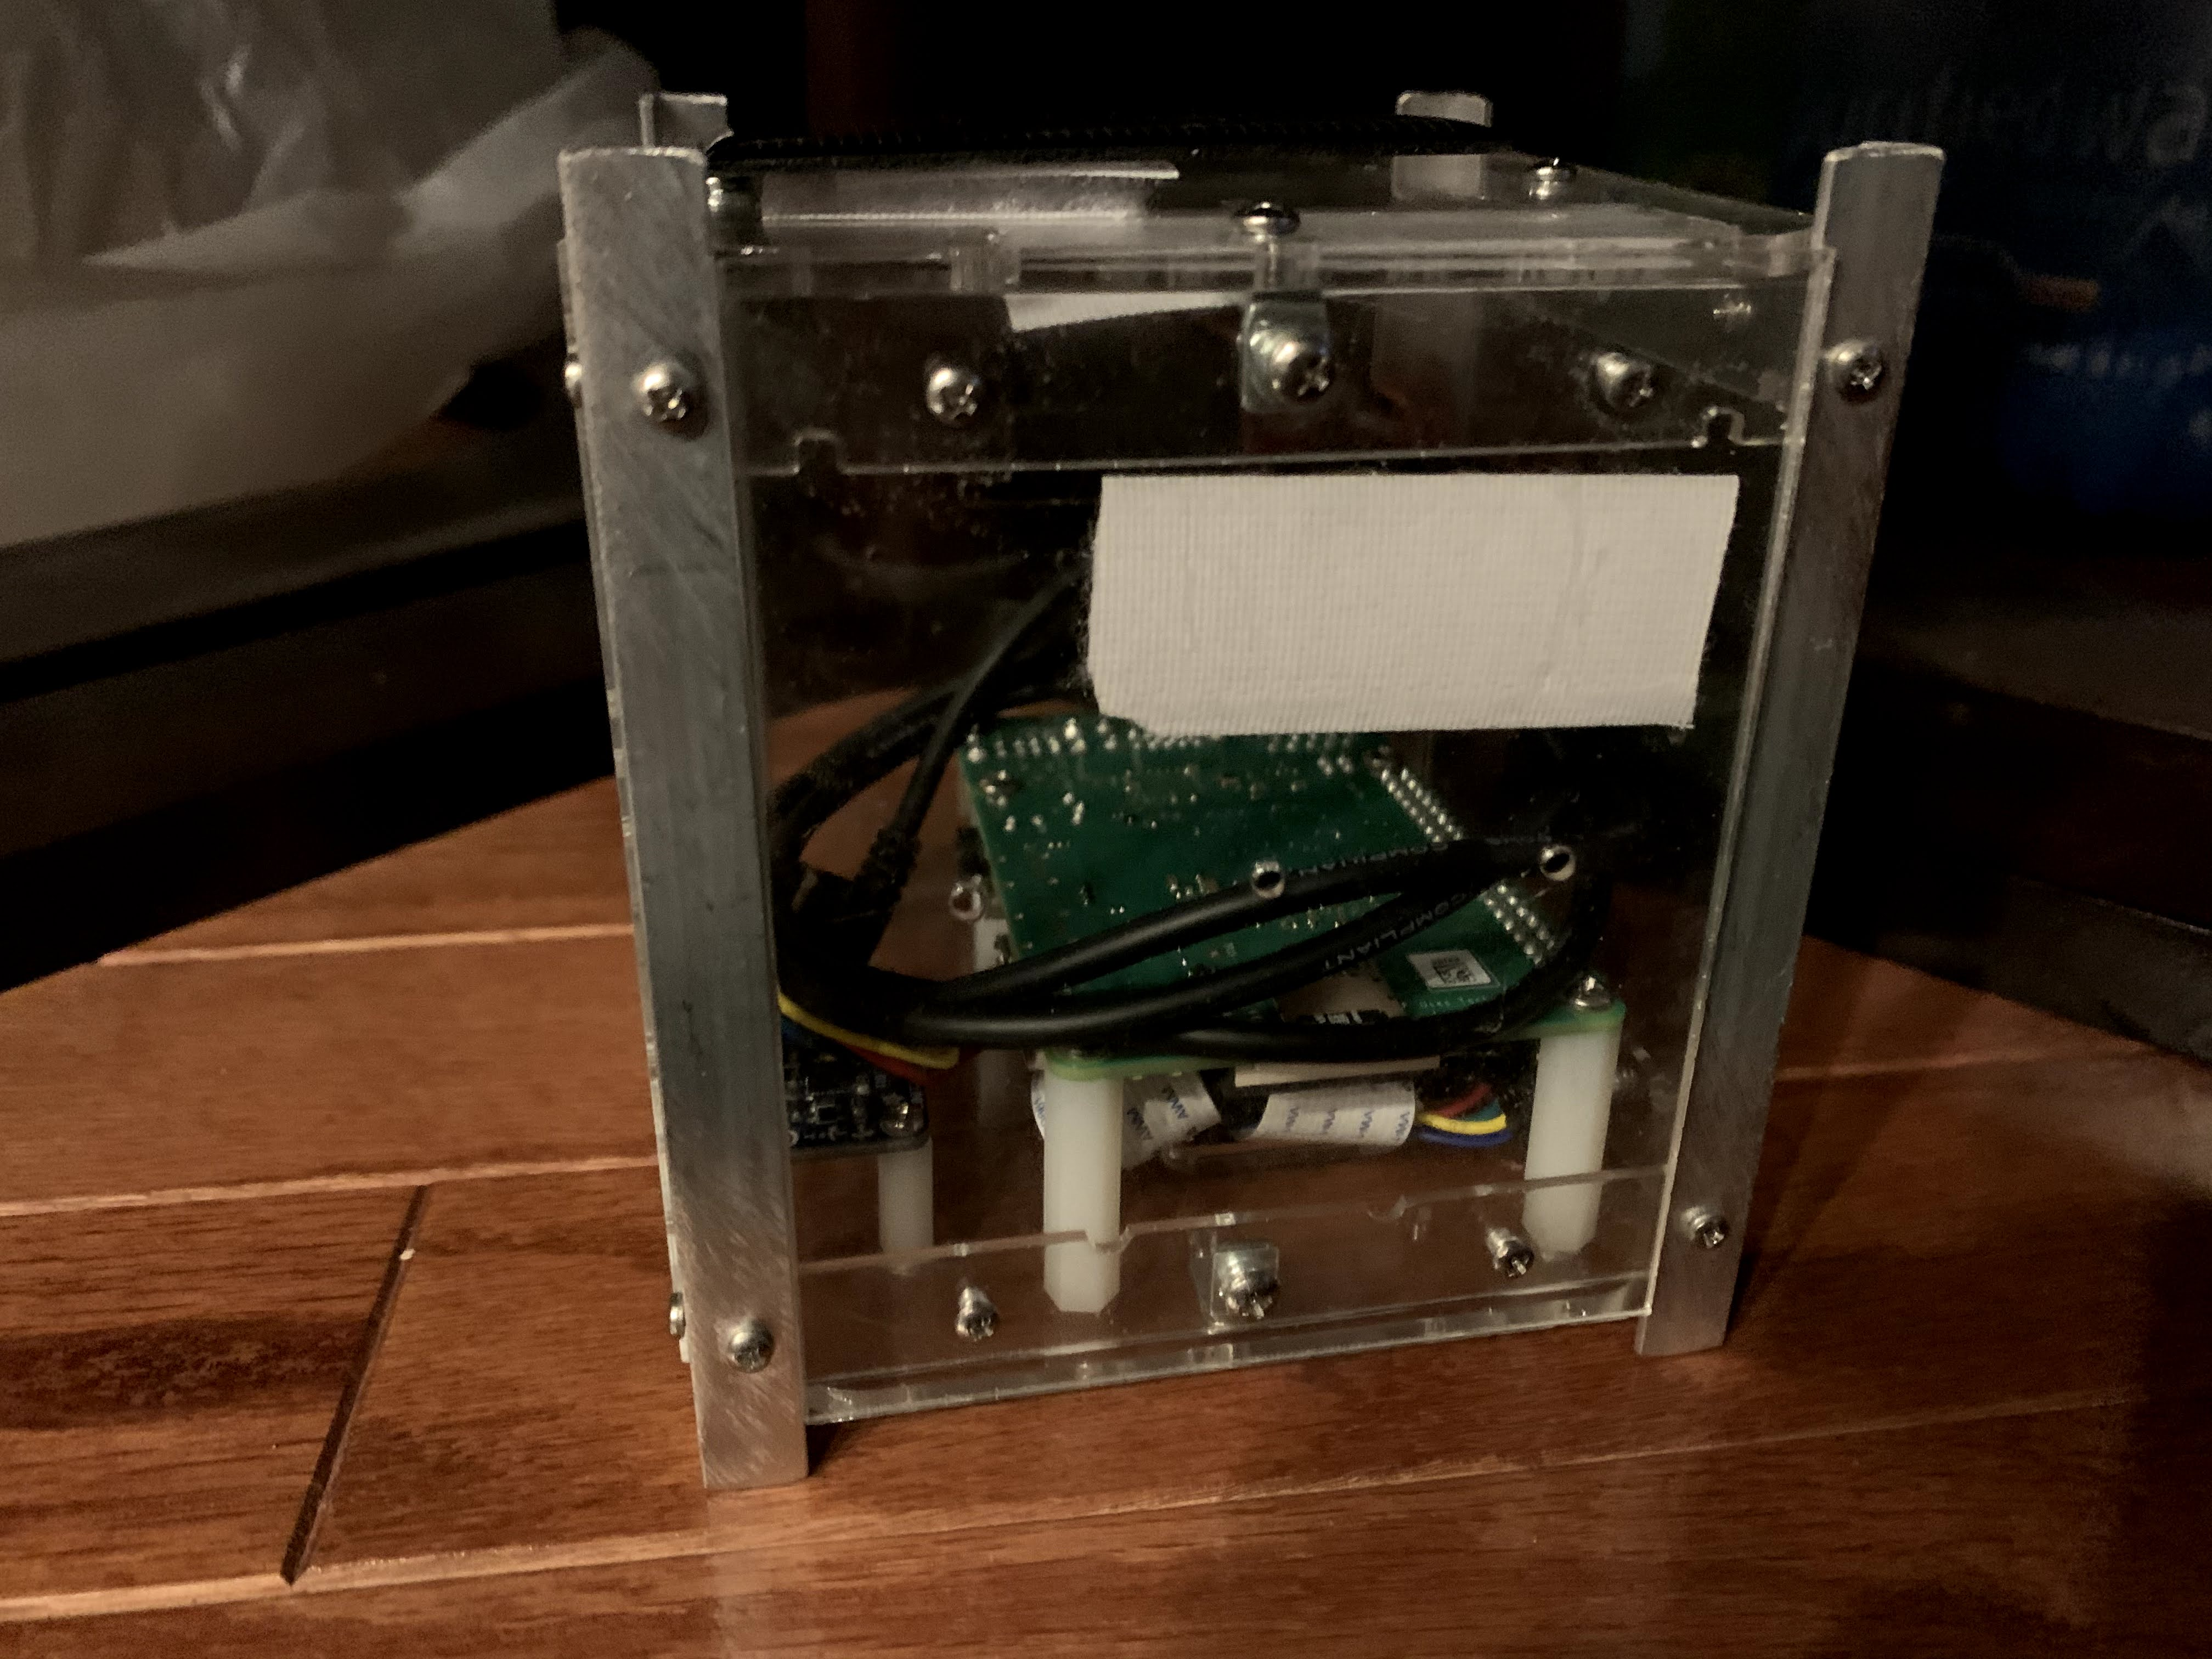Space-debris-cubesat: (545, 45, 1965, 1497)
